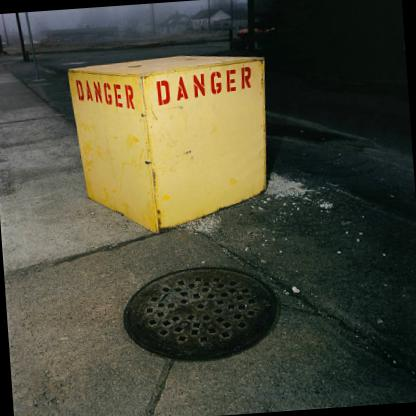manholes: (112, 247, 296, 376)
